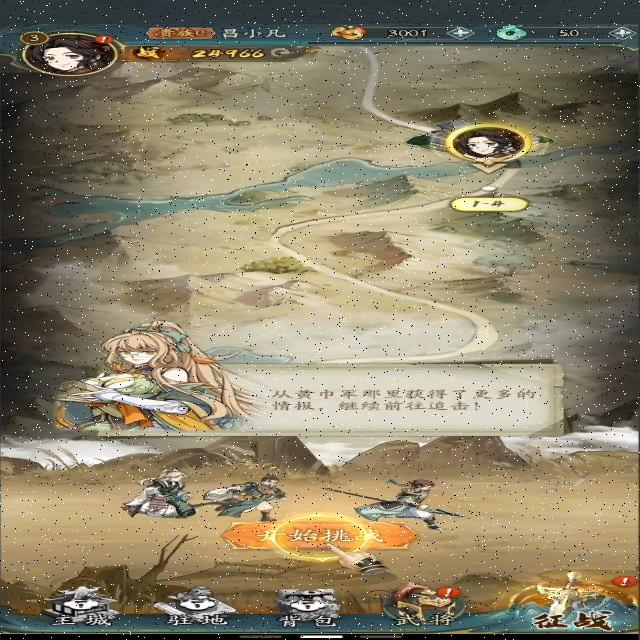hint-guide: (50, 320, 590, 442), (226, 512, 421, 574)
hint-reddot: (436, 582, 464, 600), (86, 32, 119, 47), (607, 575, 640, 589)
navigation-role: (14, 25, 126, 78)
navigation-station-off: (143, 581, 244, 627)
operation-confirm: (230, 522, 416, 550)
